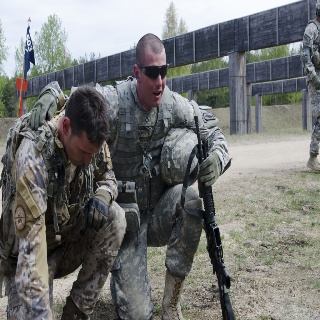rifle: (192, 114, 236, 320)
